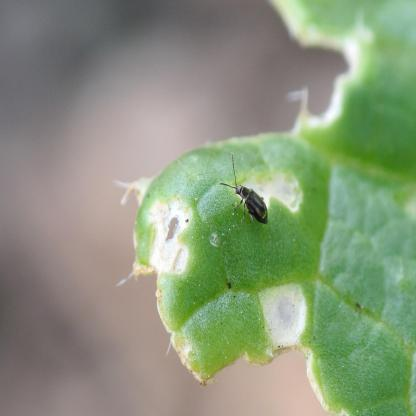beetle: (227, 161, 276, 230)
